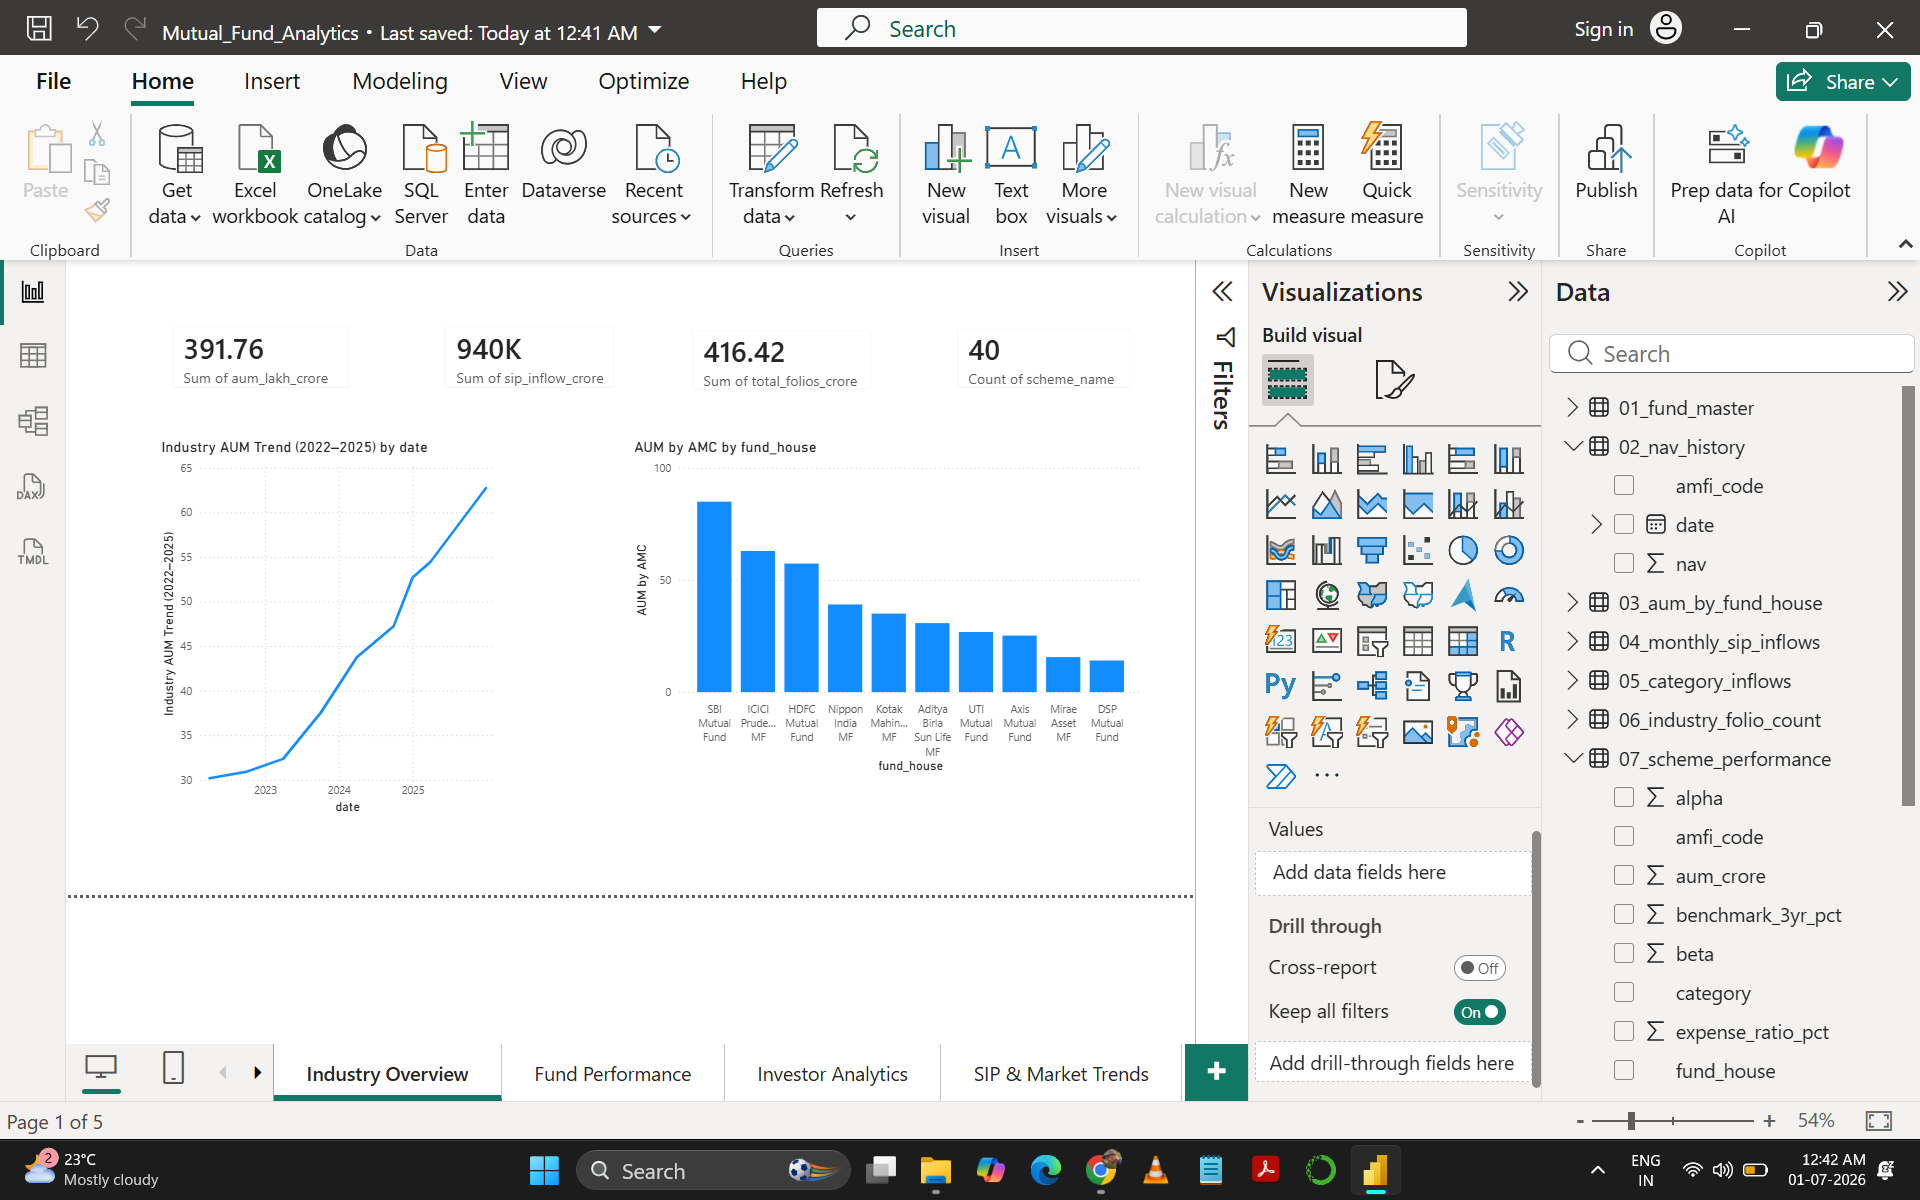

The dashboard page shown, as its layout file describes it:
{"tool":"powerbi","page":{"name":"Industry Overview","canvas":[1280,720],"ordinal":0},"visuals":[{"type":"cardVisual","fields":{"Data":["Sum(03_aum_by_fund_house.aum_lakh_crore)"]},"box":[103.6,57.2,235.8,105.4],"z":0},{"type":"cardVisual","fields":{"Data":["Sum(04_monthly_sip_inflows.sip_inflow_crore)"]},"box":[412.6,57.2,226.8,105.4],"z":1000},{"type":"cardVisual","fields":{"Data":["Sum(06_industry_folio_count.total_folios_crore)"]},"box":[693,62.5,237.5,101.8],"z":2000},{"type":"cardVisual","fields":{"Data":["CountNonNull(01_fund_master.scheme_name)"]},"box":[993,60.7,232.2,101.8],"z":3000},{"type":"lineChart","fields":{"Y":["Sum(03_aum_by_fund_house.aum_lakh_crore)"],"Category":["03_aum_by_fund_house.date"]},"box":[103.6,201.8,391.1,430.4],"z":4000},{"type":"clusteredColumnChart","fields":{"Category":["03_aum_by_fund_house.fund_house"],"Y":["Sum(03_aum_by_fund_house.aum_lakh_crore)"]},"box":[639.4,201.8,585.8,384],"z":5000}]}

Visuals, with their boxes on the page's 1280x720 design canvas (x1, y1, x2, y2). These are canvas units, not pixel positions in the 1920x1200 screenshot, which may show the page scaled, cropped or inside an application window:
cardVisual - Sum(03_aum_by_fund_house.aum_lakh_crore): x1=104, y1=57, x2=339, y2=163
cardVisual - Sum(04_monthly_sip_inflows.sip_inflow_crore): x1=413, y1=57, x2=639, y2=163
cardVisual - Sum(06_industry_folio_count.total_folios_crore): x1=693, y1=62, x2=930, y2=164
cardVisual - CountNonNull(01_fund_master.scheme_name): x1=993, y1=61, x2=1225, y2=162
lineChart - Sum(03_aum_by_fund_house.aum_lakh_crore) x 03_aum_by_fund_house.date: x1=104, y1=202, x2=495, y2=632
clusteredColumnChart - 03_aum_by_fund_house.fund_house x Sum(03_aum_by_fund_house.aum_lakh_crore): x1=639, y1=202, x2=1225, y2=586
